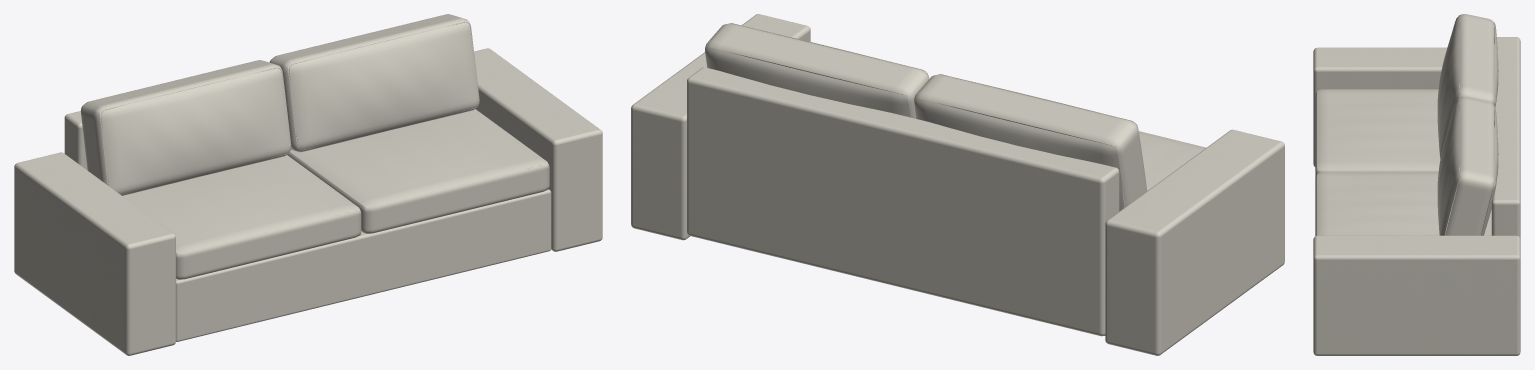
Rendered from sofa.glb.
The picture shows the model from 3 angles, left to right: view 1: azimuth 30°, elevation 25°; view 2: azimuth 150°, elevation 25°; view 3: azimuth 270°, elevation 25°; orthographic projection. The views are drawn at different scales.
Visible parts, largest first — view 1: Upholstered seat base, Broad low upholstered arm, Loose back cushion 1, Loose back cushion 2, Loose seat cushion 2, Loose seat cushion 1, Broad low upholstered arm.001, Rear support beneath loose back cushions; view 2: Rear support beneath loose back cushions, Broad low upholstered arm, Loose back cushion 1, Loose back cushion 2, Broad low upholstered arm.001, Loose seat cushion 1; view 3: Broad low upholstered arm.001, Loose seat cushion 1, Loose seat cushion 2, Loose back cushion 2, Broad low upholstered arm, Rear support beneath loose back cushions, Loose back cushion 1.
Boxes of the visible parts, x1,y1,x2,y2 form: Upholstered seat base: (176, 173, 551, 341); Broad low upholstered arm: (14, 152, 175, 355); Loose back cushion 1: (81, 60, 291, 195); Loose back cushion 2: (269, 14, 479, 152); Loose seat cushion 2: (287, 109, 549, 233); Loose seat cushion 1: (123, 155, 361, 279); Broad low upholstered arm.001: (474, 48, 602, 251); Rear support beneath loose back cushions: (64, 75, 290, 170); Rear support beneath loose back cushions: (687, 67, 1119, 336); Broad low upholstered arm: (1105, 129, 1284, 355); Loose back cushion 1: (914, 74, 1147, 211); Loose back cushion 2: (705, 23, 929, 118); Broad low upholstered arm.001: (631, 14, 810, 240); Loose seat cushion 1: (1124, 131, 1205, 207); Broad low upholstered arm.001: (1313, 235, 1520, 355); Loose seat cushion 1: (1315, 89, 1460, 177); Loose seat cushion 2: (1315, 172, 1460, 235); Loose back cushion 2: (1437, 97, 1498, 235); Broad low upholstered arm: (1313, 47, 1446, 166); Rear support beneath loose back cushions: (1491, 37, 1520, 238); Loose back cushion 1: (1437, 14, 1498, 158).
Bounding box in the file's own units: 2.28 × 0.83 × 0.95.
3 materials, 1 textured.
